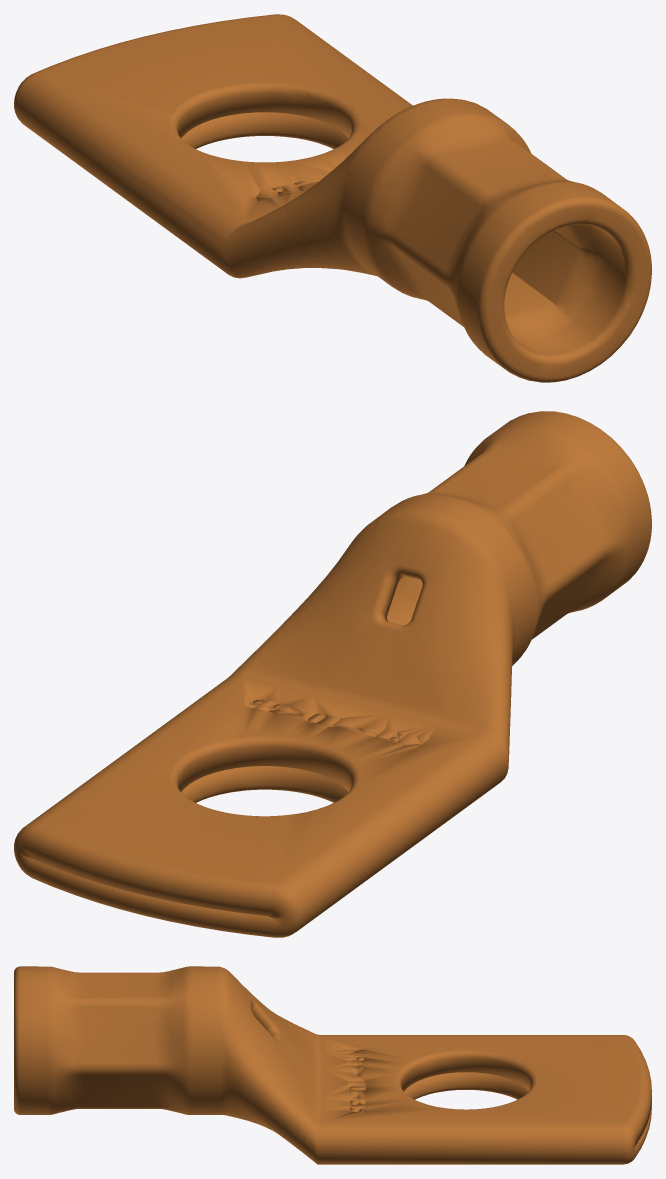
File: copper_component.glb
3 views of the same model, one above another, from view 1: azimuth 30°, elevation 25°; view 2: azimuth 150°, elevation 25°; view 3: azimuth 270°, elevation 25° (orthographic). The views are drawn at different scales.
Visible parts, largest first — view 1: KRF-M10-35; view 2: KRF-M10-35; view 3: KRF-M10-35.
Part boxes in pixels (bbox=[...]): KRF-M10-35: bbox=[14, 14, 651, 382]; KRF-M10-35: bbox=[14, 411, 651, 937]; KRF-M10-35: bbox=[14, 966, 651, 1164].
Bounding box in the file's own units: 0.02 × 0.013 × 0.0515.
